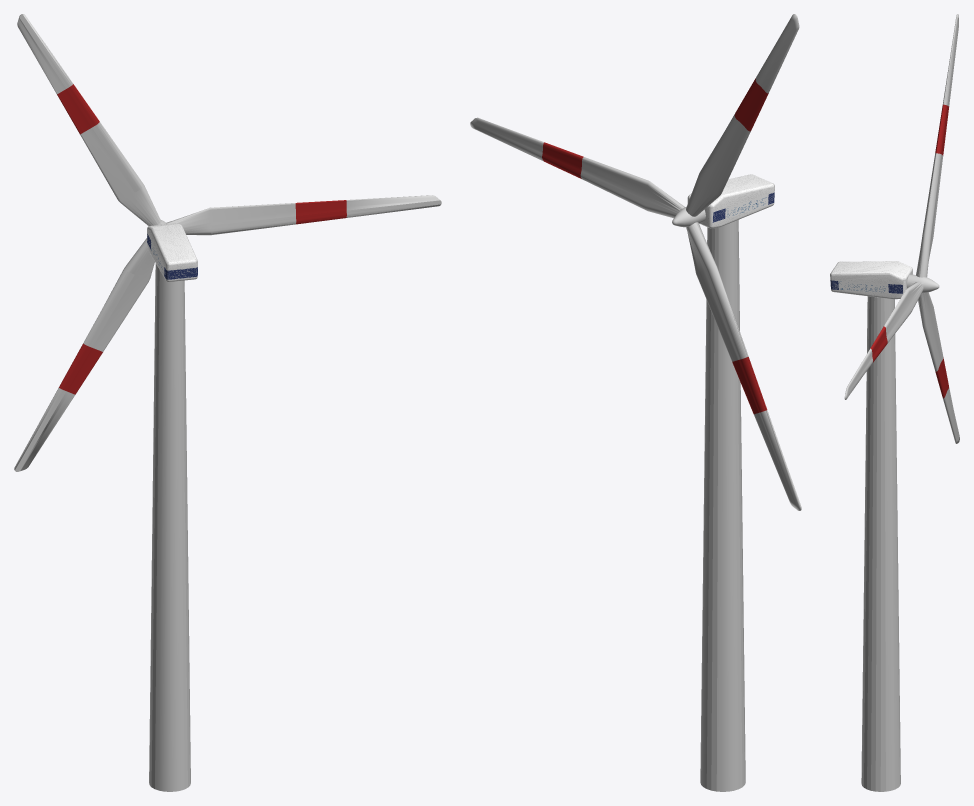
The model's file is Soton.dae.
3 views of the same model, side by side, from view 1: azimuth 30°, elevation 25°; view 2: azimuth 150°, elevation 25°; view 3: azimuth 270°, elevation 25° (orthographic). The views are drawn at different scales.
Visible parts, largest first — view 1: Group_2 (×9); view 2: Group_2 (×9); view 3: Group_2 (×10).
Part boxes in pixels (bbox=[...]): Group_2 (×9): bbox=[14, 14, 441, 791]; Group_2 (×9): bbox=[470, 14, 801, 791]; Group_2 (×10): bbox=[830, 14, 959, 791].
Bounding box in the file's own units: 722 × 236 × 1441.
